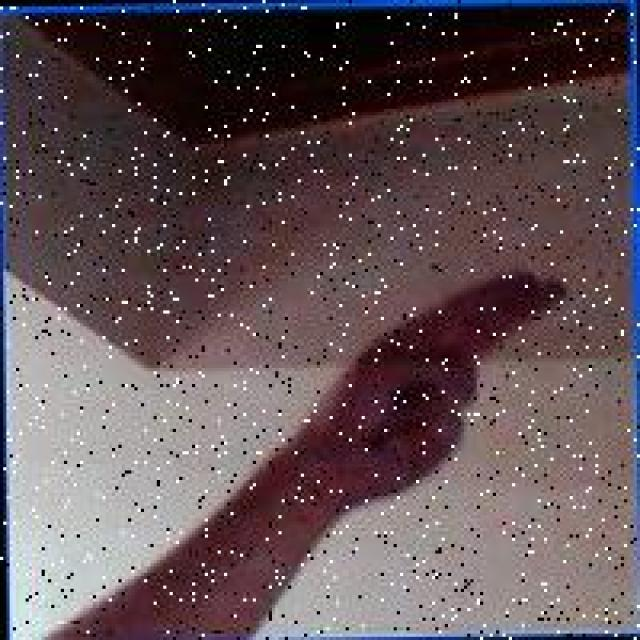H: (293, 258, 574, 504)
